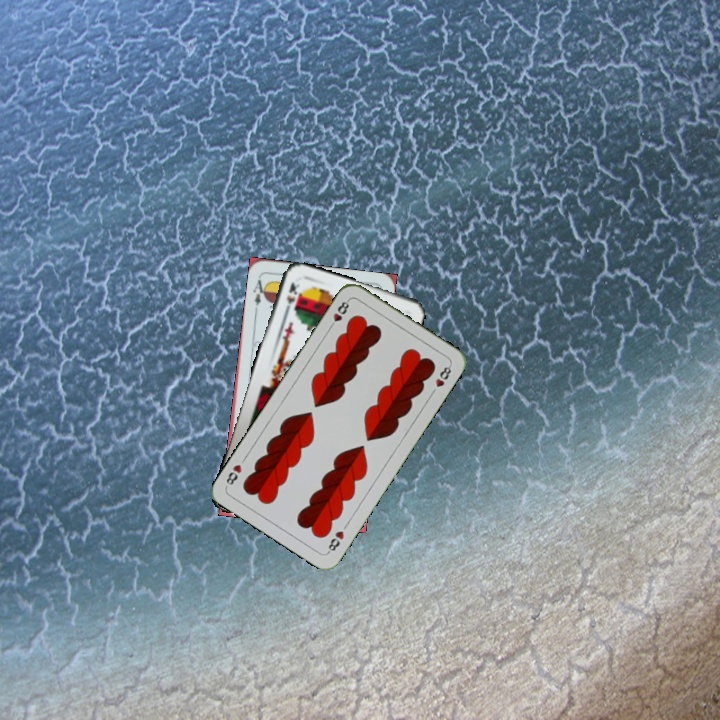EA: (249, 273, 270, 313)
H8: (325, 295, 352, 332), (323, 526, 347, 556)
SK: (280, 278, 303, 316)
